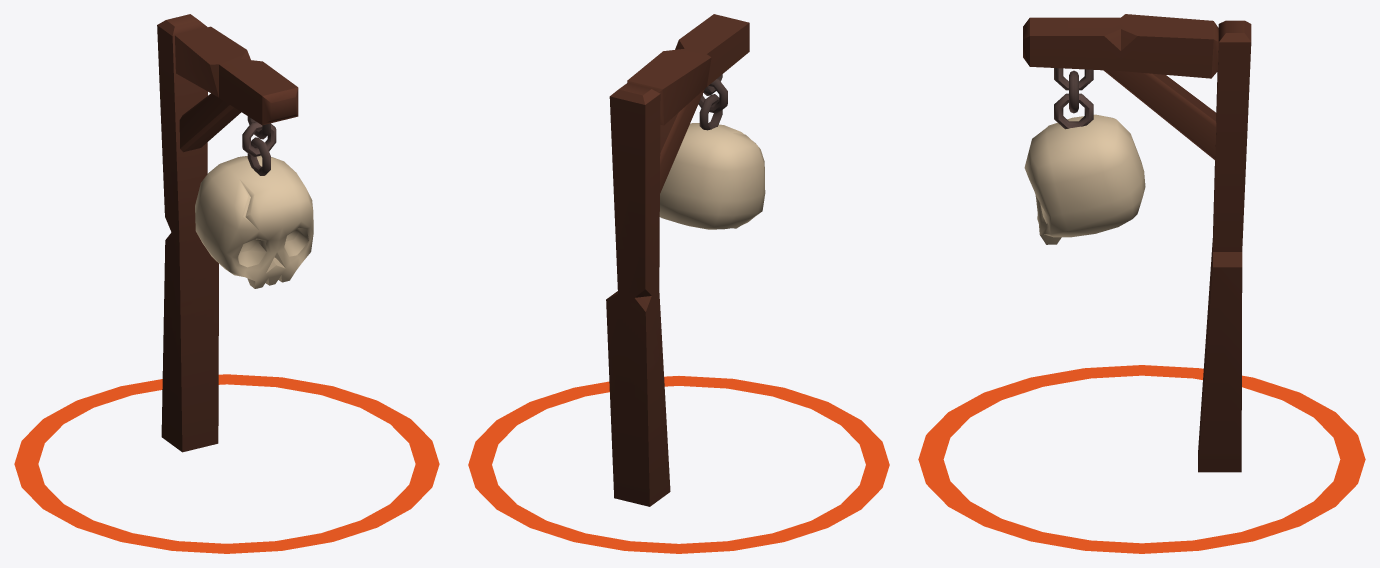
File: foe_marker.fbx
The picture shows the model from 3 angles, left to right: view 1: azimuth 30°, elevation 25°; view 2: azimuth 150°, elevation 25°; view 3: azimuth 270°, elevation 25°; orthographic projection. The views are drawn at different scales.
Parts seen in each view (by area): view 1: foe_marker; view 2: foe_marker; view 3: foe_marker.
Part boxes in pixels (x1,y1,x2,y2): foe_marker: [14, 14, 439, 553]; foe_marker: [468, 14, 889, 553]; foe_marker: [918, 14, 1365, 553].
Bounding box in the file's own units: 2.3 × 2.47 × 2.3.
